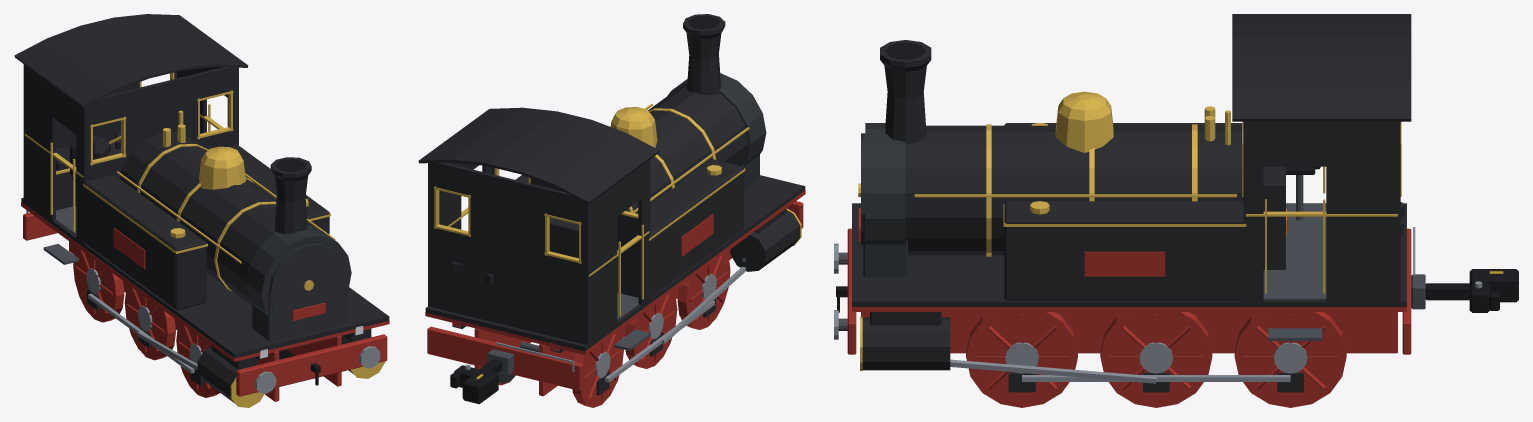
The model's file is locomotive_vapeur.glb.
3 views of the same model, side by side, from view 1: azimuth 30°, elevation 25°; view 2: azimuth 150°, elevation 25°; view 3: azimuth 270°, elevation 25° (orthographic). The views are drawn at different scales.
Visible parts, largest first — view 1: pieces_loco_noir.002, pieces_fonte.008, pieces_loco_rouge.002, pieces_laiton.002, cheminee.002, roues_ar_loco_rouge.002, roues_motrices_loco_rouge.002, pieces_acier.008, dome.002, roues_av_loco_rouge.002, pieces_acier_sombre.008, pieces_noir.004 (+1 smaller); view 2: pieces_loco_noir.002, pieces_loco_rouge.002, pieces_laiton.002, cheminee.002, pieces_fonte.008, roues_av_loco_rouge.002, roues_ar_loco_rouge.002, roues_motrices_loco_rouge.002, pieces_acier.008, attelage_ar_noir.006, dome.002, pieces_acier_sombre.008 (+2 smaller); view 3: pieces_loco_noir.002, pieces_loco_rouge.002, roues_motrices_loco_rouge.002, roues_av_loco_rouge.002, roues_ar_loco_rouge.002, pieces_fonte.008, pieces_laiton.002, pieces_acier_sombre.008, cheminee.002, pieces_acier.008, dome.002, attelage_ar_noir.006 (+4 smaller).
Boxes of the visible parts, x1=… form: pieces_loco_noir.002: x1=14, y1=14, x2=389, y2=403; pieces_fonte.008: x1=246, y1=225, x2=351, y2=340; pieces_loco_rouge.002: x1=21, y1=202, x2=389, y2=401; pieces_laiton.002: x1=24, y1=72, x2=385, y2=407; cheminee.002: x1=270, y1=157, x2=311, y2=234; roues_ar_loco_rouge.002: x1=73, y1=247, x2=124, y2=322; roues_motrices_loco_rouge.002: x1=124, y1=285, x2=175, y2=360; pieces_acier.008: x1=26, y1=210, x2=380, y2=393; dome.002: x1=199, y1=146, x2=245, y2=189; roues_av_loco_rouge.002: x1=176, y1=322, x2=219, y2=397; pieces_acier_sombre.008: x1=43, y1=206, x2=78, y2=264; pieces_noir.004: x1=70, y1=141, x2=320, y2=385; pieces_loco_noir.002: x1=418, y1=86, x2=805, y2=352; pieces_loco_rouge.002: x1=425, y1=190, x2=805, y2=396; pieces_laiton.002: x1=434, y1=103, x2=801, y2=316; cheminee.002: x1=683, y1=14, x2=725, y2=95; pieces_fonte.008: x1=667, y1=73, x2=766, y2=190; roues_av_loco_rouge.002: x1=677, y1=252, x2=730, y2=329; roues_ar_loco_rouge.002: x1=498, y1=330, x2=623, y2=407; roues_motrices_loco_rouge.002: x1=624, y1=291, x2=677, y2=368; pieces_acier.008: x1=496, y1=258, x2=745, y2=382; attelage_ar_noir.006: x1=450, y1=359, x2=502, y2=404; dome.002: x1=610, y1=107, x2=657, y2=147; pieces_acier_sombre.008: x1=614, y1=292, x2=650, y2=350; pieces_loco_noir.002: x1=852, y1=14, x2=1411, y2=370; pieces_loco_rouge.002: x1=847, y1=208, x2=1411, y2=354; roues_motrices_loco_rouge.002: x1=1100, y1=312, x2=1212, y2=407; roues_av_loco_rouge.002: x1=966, y1=312, x2=1077, y2=407; roues_ar_loco_rouge.002: x1=1234, y1=312, x2=1346, y2=407; pieces_fonte.008: x1=861, y1=123, x2=907, y2=276; pieces_laiton.002: x1=858, y1=106, x2=1401, y2=370; pieces_acier_sombre.008: x1=838, y1=175, x2=1326, y2=340; cheminee.002: x1=880, y1=40, x2=931, y2=144; pieces_acier.008: x1=834, y1=227, x2=1415, y2=383; dome.002: x1=1055, y1=91, x2=1113, y2=152; attelage_ar_noir.006: x1=1425, y1=269, x2=1518, y2=312.
Size of the model in its own units: 2.95 by 4.05 by 7.65.
